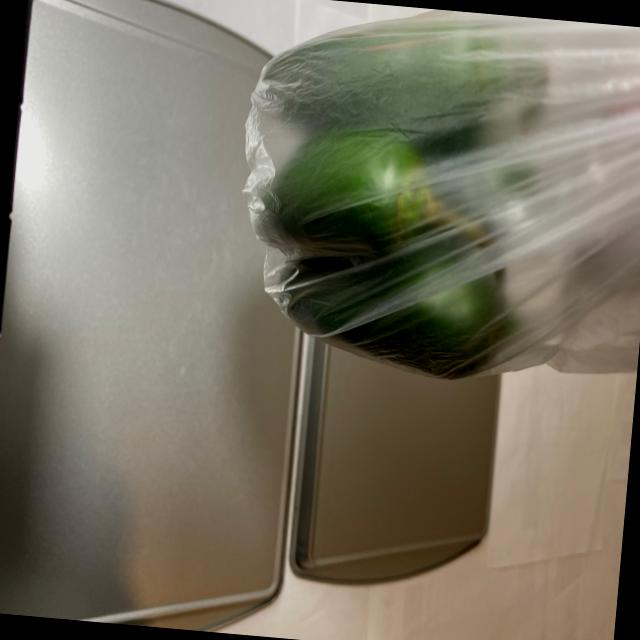chilli: (229, 0, 589, 400)
